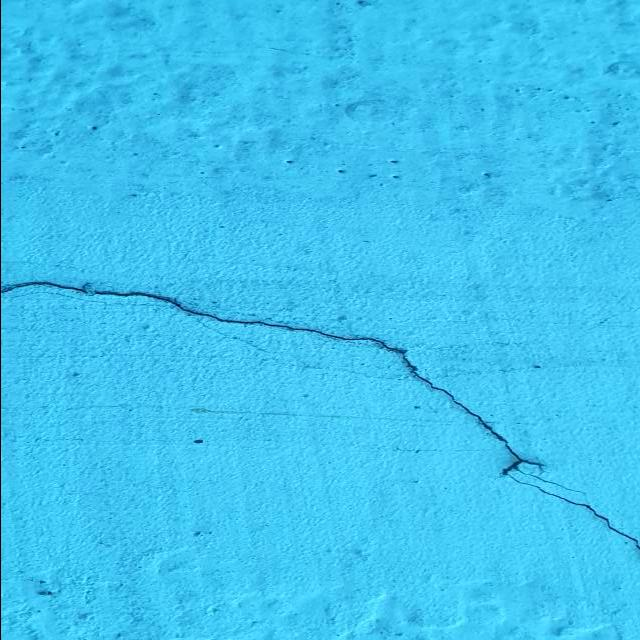SurfaceCrack: (1, 242, 640, 596)
